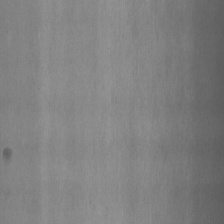oil_spot: (2, 144, 12, 166)
